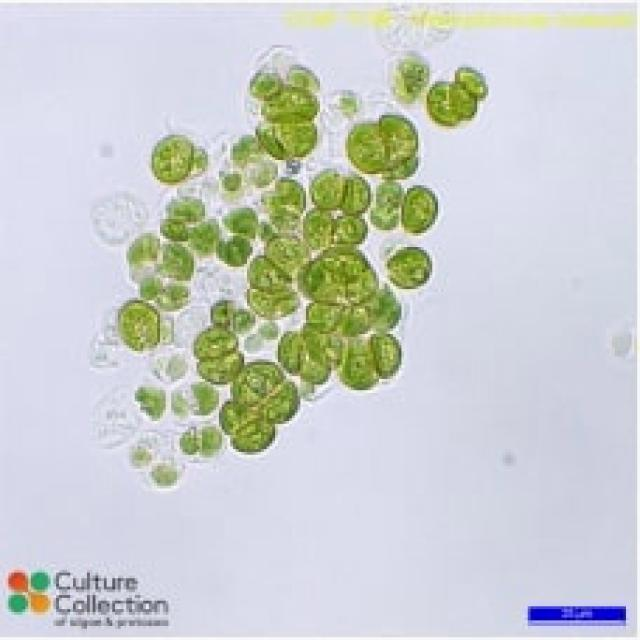Green Algae: (300, 252, 376, 298), (115, 300, 163, 356), (384, 242, 438, 289), (146, 132, 191, 182), (337, 337, 376, 390), (300, 320, 340, 371), (348, 115, 382, 171), (382, 112, 418, 163), (264, 90, 323, 121), (404, 185, 441, 233), (233, 418, 281, 455), (247, 250, 292, 289), (275, 115, 320, 154), (390, 48, 421, 104), (244, 289, 306, 315), (196, 351, 242, 384), (306, 163, 342, 205), (124, 230, 166, 264), (298, 342, 331, 384), (264, 387, 300, 424), (426, 79, 454, 126), (449, 82, 480, 124), (340, 174, 373, 213), (376, 334, 402, 382), (269, 236, 306, 269), (275, 329, 300, 376), (191, 328, 241, 351), (166, 244, 197, 281), (328, 208, 365, 238), (275, 174, 306, 208), (306, 295, 337, 328), (373, 289, 399, 326), (258, 121, 284, 157), (222, 233, 252, 264), (270, 208, 300, 238), (225, 208, 261, 233), (461, 65, 488, 98), (216, 398, 247, 426), (250, 70, 283, 96), (227, 134, 253, 166), (376, 180, 404, 208), (213, 298, 239, 326), (160, 216, 191, 239), (199, 427, 222, 452), (348, 306, 371, 328), (180, 430, 197, 458)
